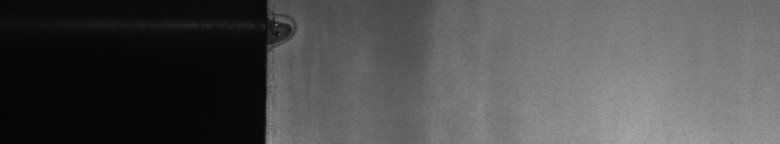hb: (276, 11, 303, 52)
